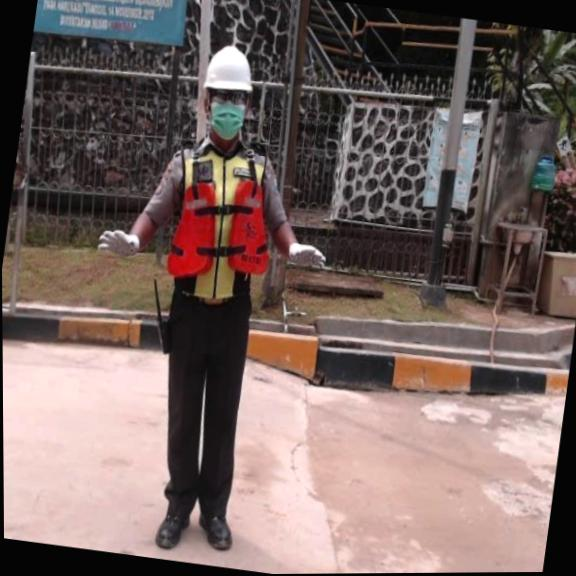safety_vest: (164, 166, 282, 287)
